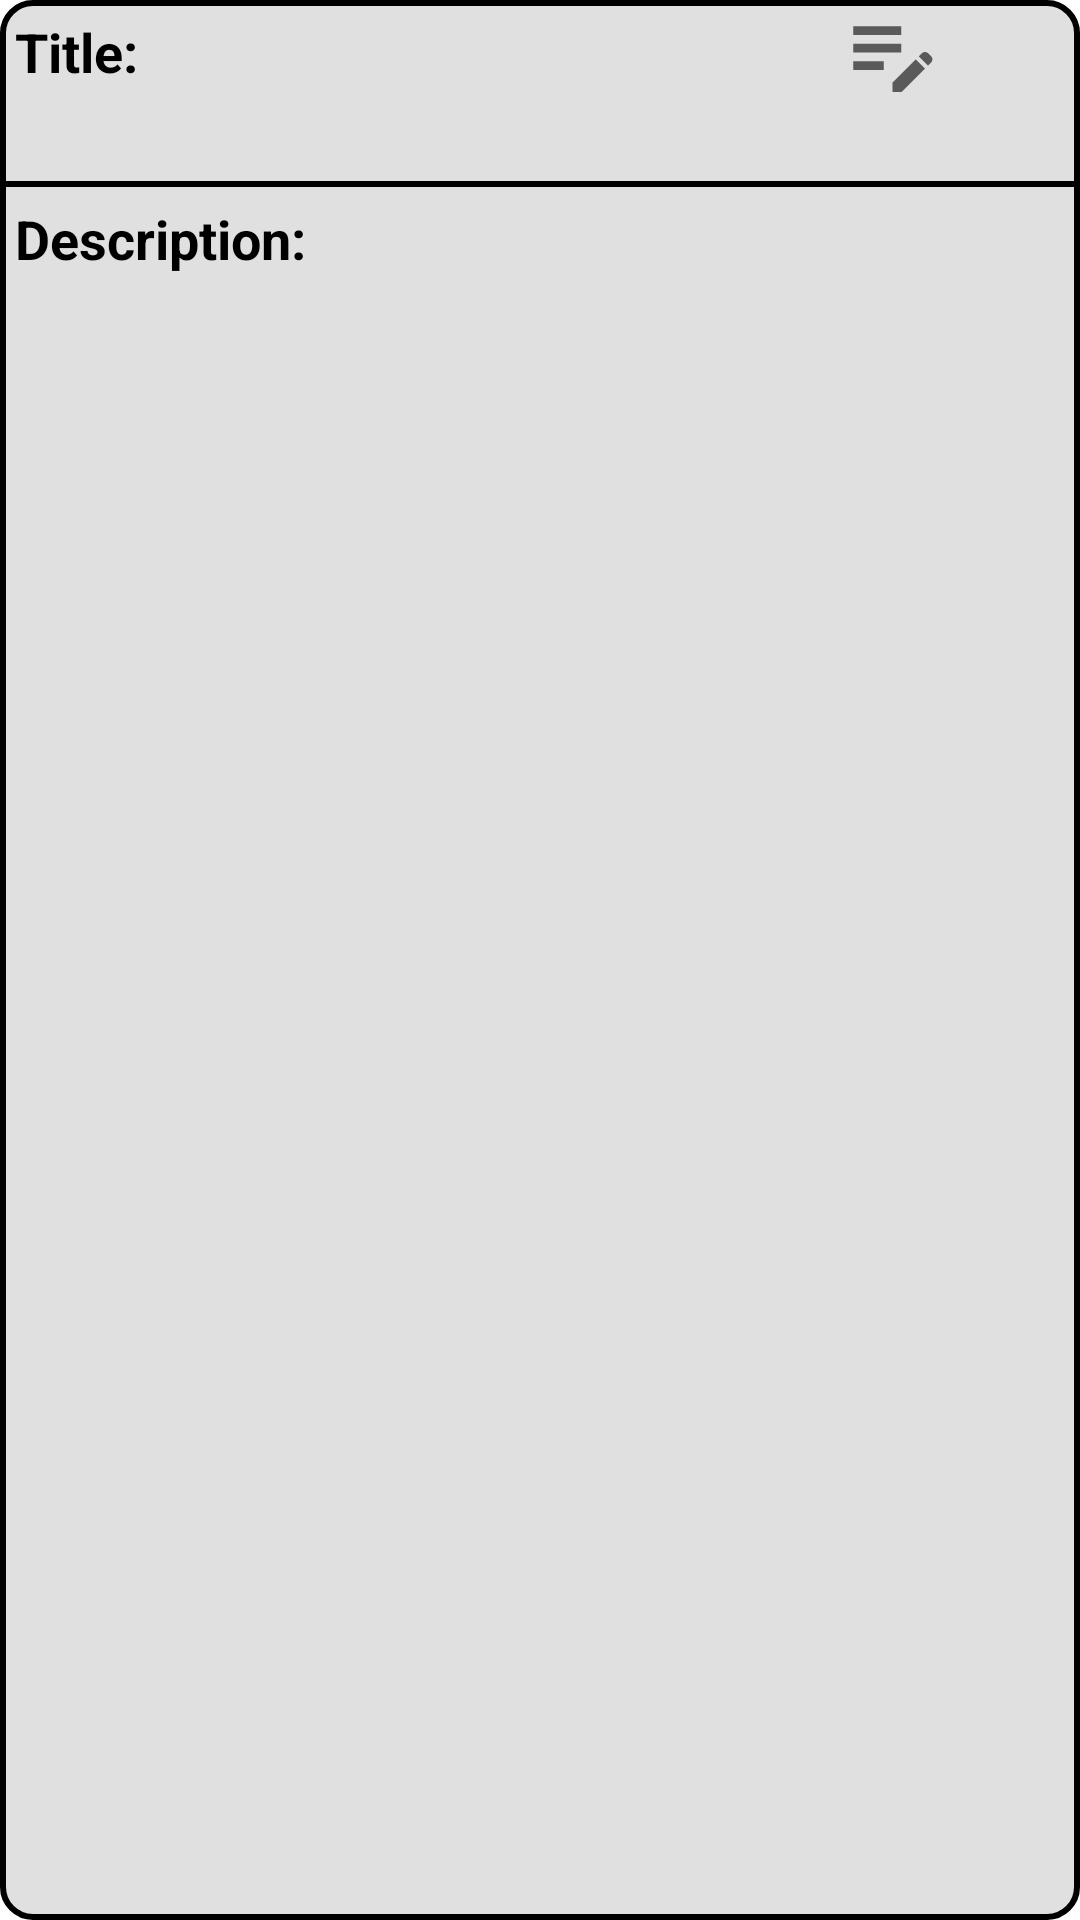

Locate icon controls on the screen. Image size 1080px x 1920px, boxes as (x1, y1, x2, y2).
edit note: (853, 26, 933, 92)
